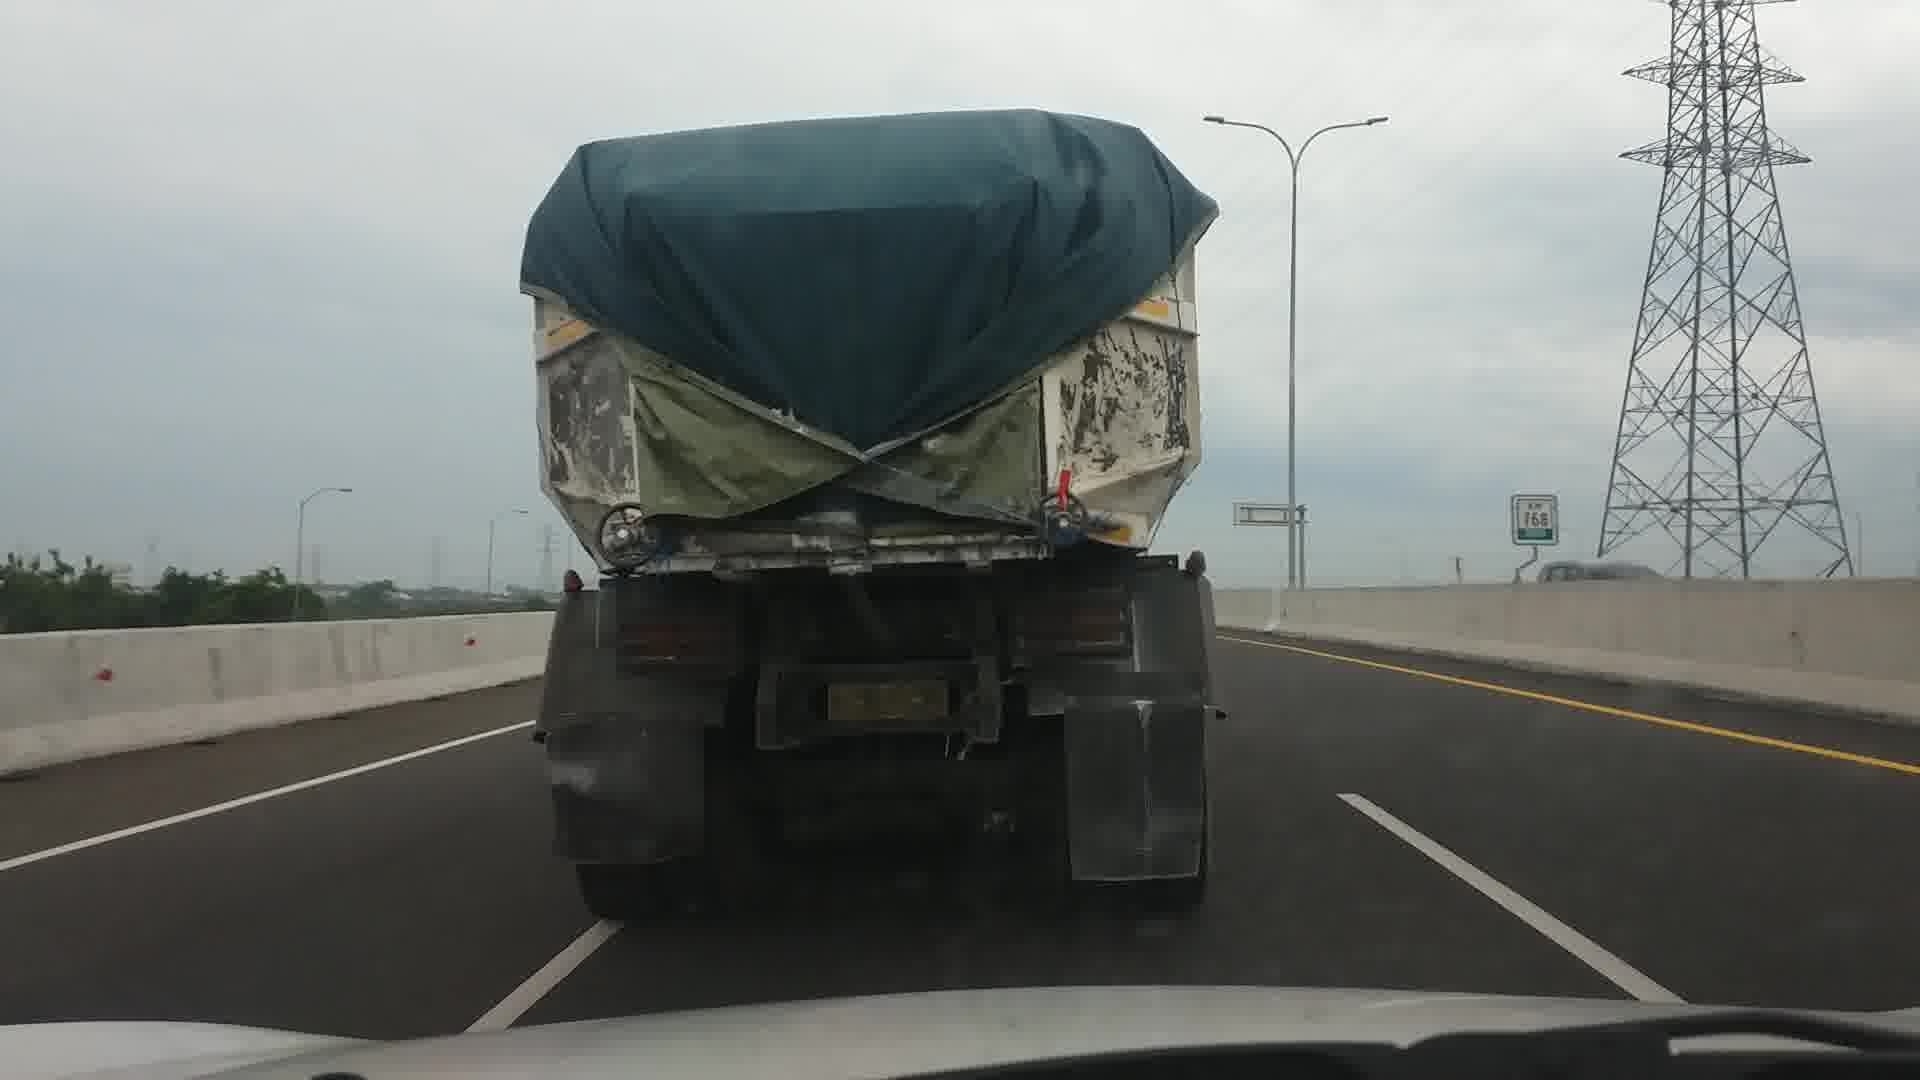plate_positive: (827, 680, 948, 723)
